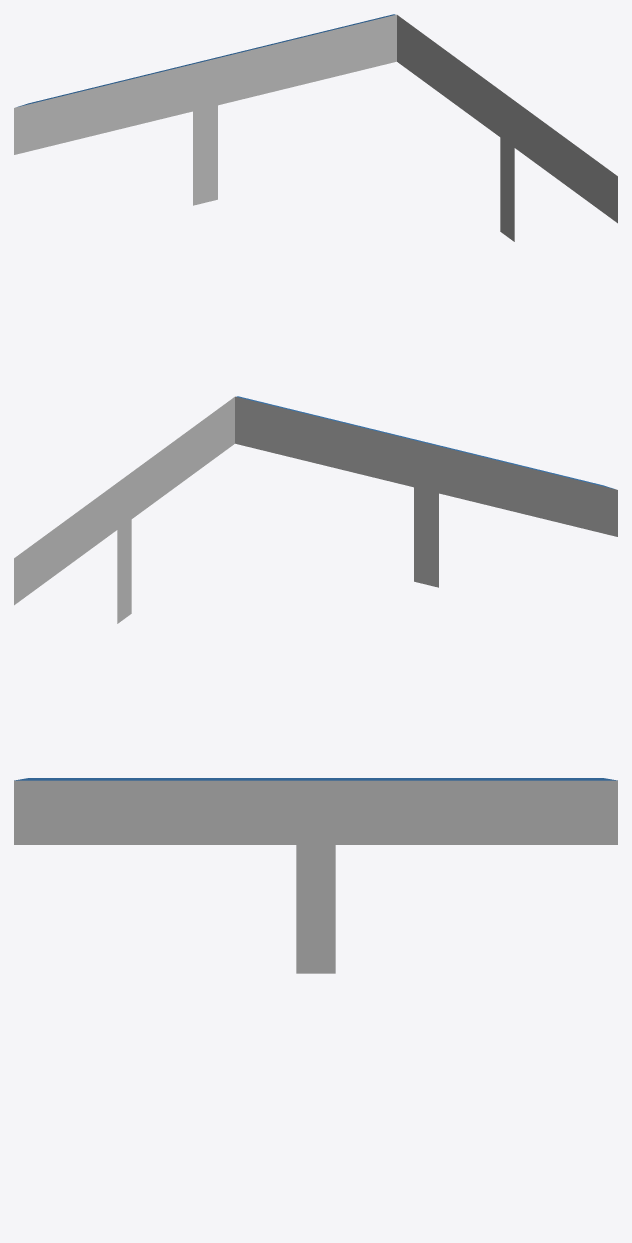
The model's file is ceiling_17x17.glb.
The picture shows the model from 3 angles, top to bottom: view 1: azimuth 30°, elevation 25°; view 2: azimuth 150°, elevation 25°; view 3: azimuth 270°, elevation 25°; orthographic projection. The views are drawn at different scales.
Visible parts, largest first — view 1: Ceiling_17x17-col; view 2: Ceiling_17x17-col; view 3: Ceiling_17x17-col.
Boxes of the visible parts, x1,y1,x2,y2 form: Ceiling_17x17-col: (14,14,617,241); Ceiling_17x17-col: (14,396,617,623); Ceiling_17x17-col: (14,778,617,973).
Bounding box in the file's own units: 17 × 6.27 × 17.
